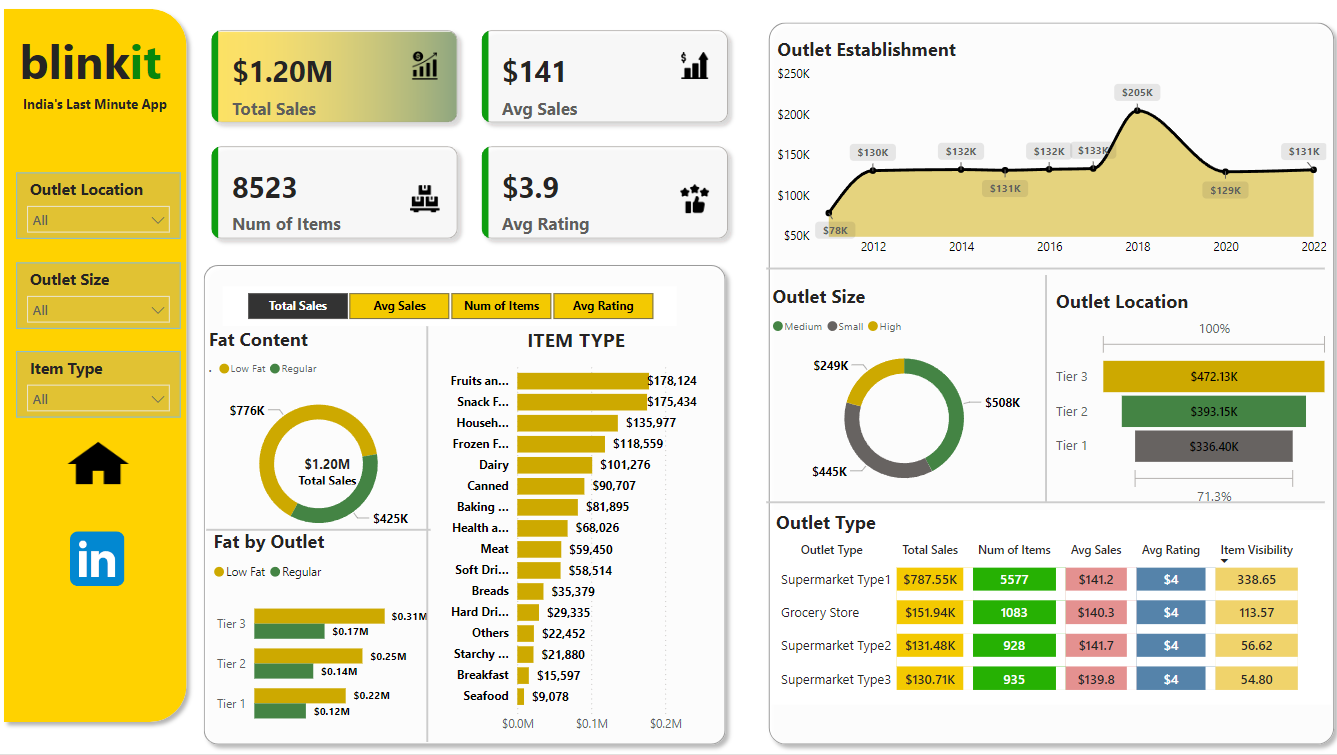

Layout of this report page (visuals, bound fields, positions):
{"tool":"powerbi","page":{"name":"blinkit store","canvas":[1400,800],"ordinal":0},"visuals":[{"type":"shape","box":[0,25.5,205.6,750.4],"z":0},{"type":"textbox","box":[12,49.5,172.6,105.1],"z":1000},{"type":"textbox","box":[17,117.6,171.7,48],"z":2000},{"type":"cardVisual","fields":{"Data":["BlinkIT Grocery Data.Total Sales","BlinkIT Grocery Data.Avg Sales","BlinkIT Grocery Data.Num of Items","BlinkIT Grocery Data.Avg Rating"]},"box":[205.8,40.2,564.6,249.1],"z":3000},{"type":"shape","box":[205.8,289.3,553.8,510.5],"z":4000},{"type":"donutChart","title":"Fat Content ","fields":{"Y":["BlinkIT Grocery Data.Total Sales"],"Category":["BlinkIT Grocery Data.Item Fat Content"]},"box":[219.7,360.4,230.5,230.5],"z":5000},{"type":"slicer","fields":{"Values":["Metrics.Metrics"]},"box":[233.8,319.6,466.1,40.5],"z":6000},{"type":"barChart","title":" ITEM TYPE","fields":{"Y":["BlinkIT Grocery Data.Total Sales"],"Category":["BlinkIT Grocery Data.Item Type"]},"box":[450.2,360.4,292.4,427],"z":7000},{"type":"cardVisual","fields":{"Data":["BlinkIT Grocery Data.Total Sales"]},"box":[292.4,476.5,97.5,52.6],"z":8000},{"type":"clusteredBarChart","title":"Fat by Outlet","fields":{"Y":["BlinkIT Grocery Data.Total Sales"],"Series":["BlinkIT Grocery Data.Item Fat Content"],"Category":["BlinkIT Grocery Data.Outlet Location Type"]},"box":[219.7,569.3,230.5,218.1],"z":9000},{"type":"shape","box":[216.6,563.1,230.5,12.4],"z":10000},{"type":"shape","box":[437.8,360.4,12.4,427],"z":11000},{"type":"shape","box":[785.9,40.2,598.7,759.6],"z":12000},{"type":"lineChart","title":"Outlet Establishment ","fields":{"Category":["BlinkIT Grocery Data.Outlet Establishment Year"],"Y":["BlinkIT Grocery Data.Total Sales"]},"box":[798.2,63.4,573.9,235.1],"z":13000},{"type":"shape","box":[792,295.5,573.9,12.4],"z":14000},{"type":"donutChart","title":"Outlet Size","fields":{"Category":["BlinkIT Grocery Data.Outlet Size"],"Y":["BlinkIT Grocery Data.Total Sales"]},"box":[798.2,317.1,275.4,224.3],"z":15000},{"type":"shape","box":[1073.6,307.9,12.4,233.6],"z":16000},{"type":"funnel","title":"Outlet Location ","fields":{"Y":["BlinkIT Grocery Data.Total Sales"],"Category":["BlinkIT Grocery Data.Outlet Location Type"]},"box":[1084.4,321.8,290.8,227.4],"z":17000},{"type":"shape","box":[792,535.2,573.9,12.4],"z":18000},{"type":"pivotTable","title":"Outlet Type","fields":{"Rows":["BlinkIT Grocery Data.Outlet Type"],"Values":["BlinkIT Grocery Data.Total Sales","BlinkIT Grocery Data.Num of Items","BlinkIT Grocery Data.Avg Sales","BlinkIT Grocery Data.Avg Rating","Sum(BlinkIT Grocery Data.Item Visibility)"]},"box":[797.6,549.6,575.1,199.7],"z":19000},{"type":"slicer","fields":{"Values":["BlinkIT Grocery Data.Outlet Location Type"]},"box":[21.7,202.7,168.6,68.1],"z":20000},{"type":"slicer","fields":{"Values":["BlinkIT Grocery Data.Outlet Size"]},"box":[21.7,294.7,168.6,68.1],"z":21000},{"type":"slicer","fields":{"Values":["BlinkIT Grocery Data.Item Type"]},"box":[21.7,386.7,168.6,68.1],"z":22000},{"type":"image","box":[66.5,470.3,78.9,65],"z":23000},{"type":"image","box":[63,549.6,84.5,100.5],"z":24000}]}

Visuals, with their boxes in screenshot pixels (x1, y1, x2, y2), scaled from the page's 1400x800 canvas onto the 1337x755 screenshot:
shape: BBox(0, 24, 196, 732)
textbox: BBox(11, 47, 176, 146)
textbox: BBox(16, 111, 180, 156)
cardVisual - BlinkIT Grocery Data.Total Sales x BlinkIT Grocery Data.Avg Sales: BBox(197, 38, 736, 273)
shape: BBox(197, 273, 725, 754)
"Fat Content " donutChart: BBox(210, 340, 430, 558)
slicer - Metrics.Metrics: BBox(223, 302, 668, 340)
" ITEM TYPE" barChart: BBox(430, 340, 709, 743)
cardVisual - BlinkIT Grocery Data.Total Sales: BBox(279, 450, 372, 499)
"Fat by Outlet" clusteredBarChart: BBox(210, 537, 430, 743)
shape: BBox(207, 531, 427, 543)
shape: BBox(418, 340, 430, 743)
shape: BBox(751, 38, 1322, 754)
"Outlet Establishment " lineChart: BBox(762, 60, 1310, 282)
shape: BBox(756, 279, 1304, 291)
"Outlet Size" donutChart: BBox(762, 299, 1025, 511)
shape: BBox(1025, 291, 1037, 511)
"Outlet Location " funnel: BBox(1036, 304, 1313, 518)
shape: BBox(756, 505, 1304, 517)
"Outlet Type" pivotTable: BBox(762, 519, 1311, 707)
slicer - BlinkIT Grocery Data.Outlet Location Type: BBox(21, 191, 182, 256)
slicer - BlinkIT Grocery Data.Outlet Size: BBox(21, 278, 182, 342)
slicer - BlinkIT Grocery Data.Item Type: BBox(21, 365, 182, 429)
image: BBox(64, 444, 139, 505)
image: BBox(60, 519, 141, 614)
